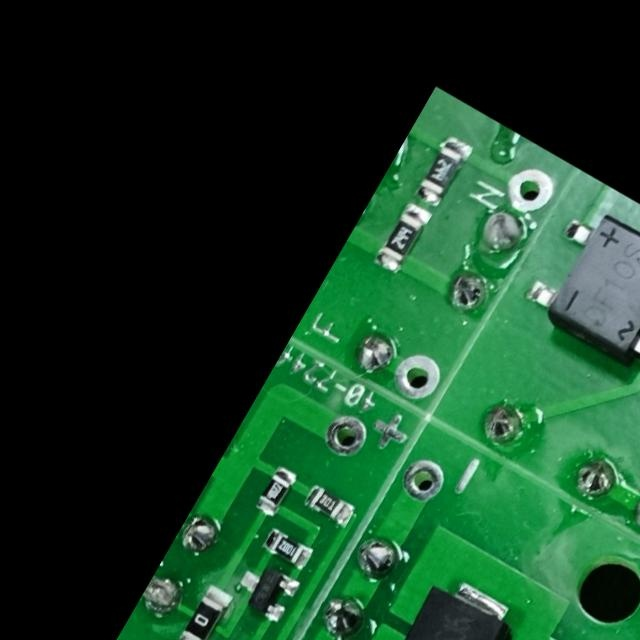chip-resistor: (369, 197, 436, 279), (411, 130, 477, 211), (171, 579, 237, 640), (251, 462, 301, 522), (257, 523, 316, 573), (299, 480, 358, 529)
ic: (513, 192, 640, 388)
transistor: (228, 555, 302, 627)
